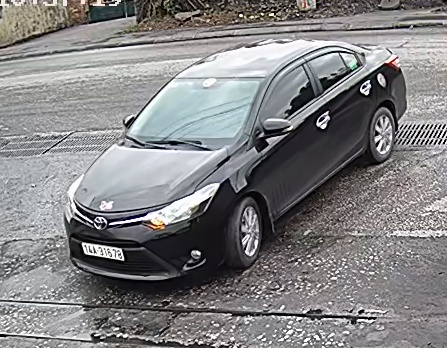vehicle plate: (74, 238, 125, 263)
